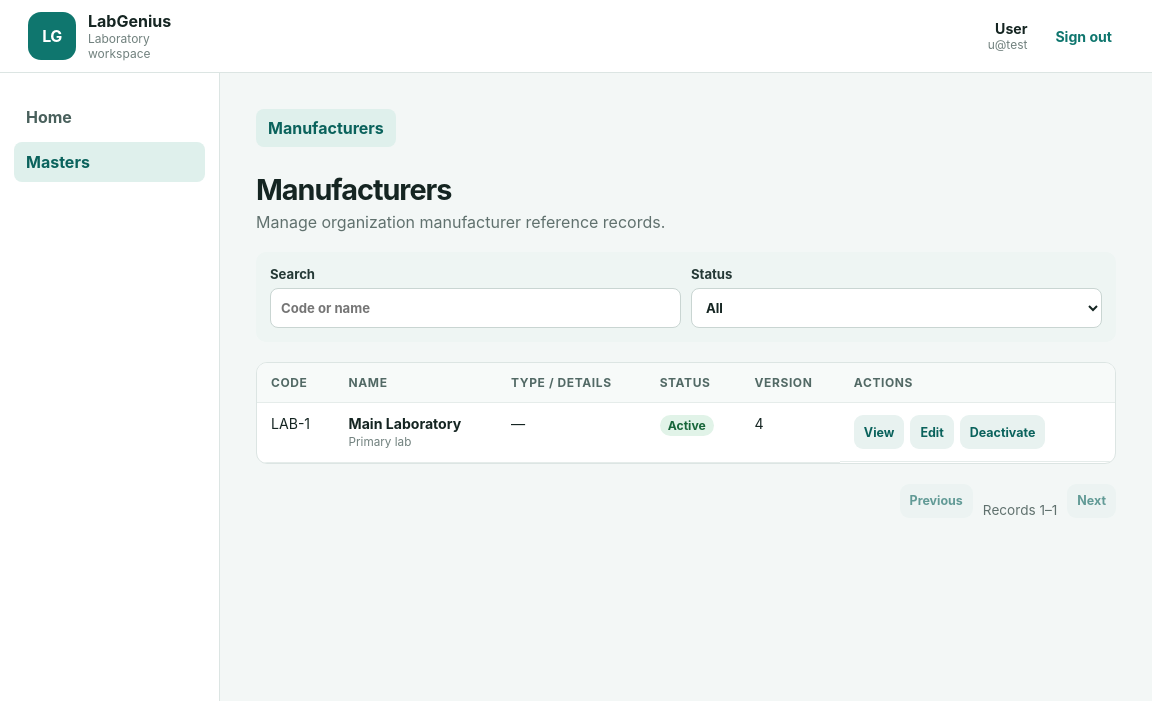
Test: sends expected version, preserves stale conflict, and offers refresh
Click the button "Edit" at x=932, y=432, box [910,415,954,449]
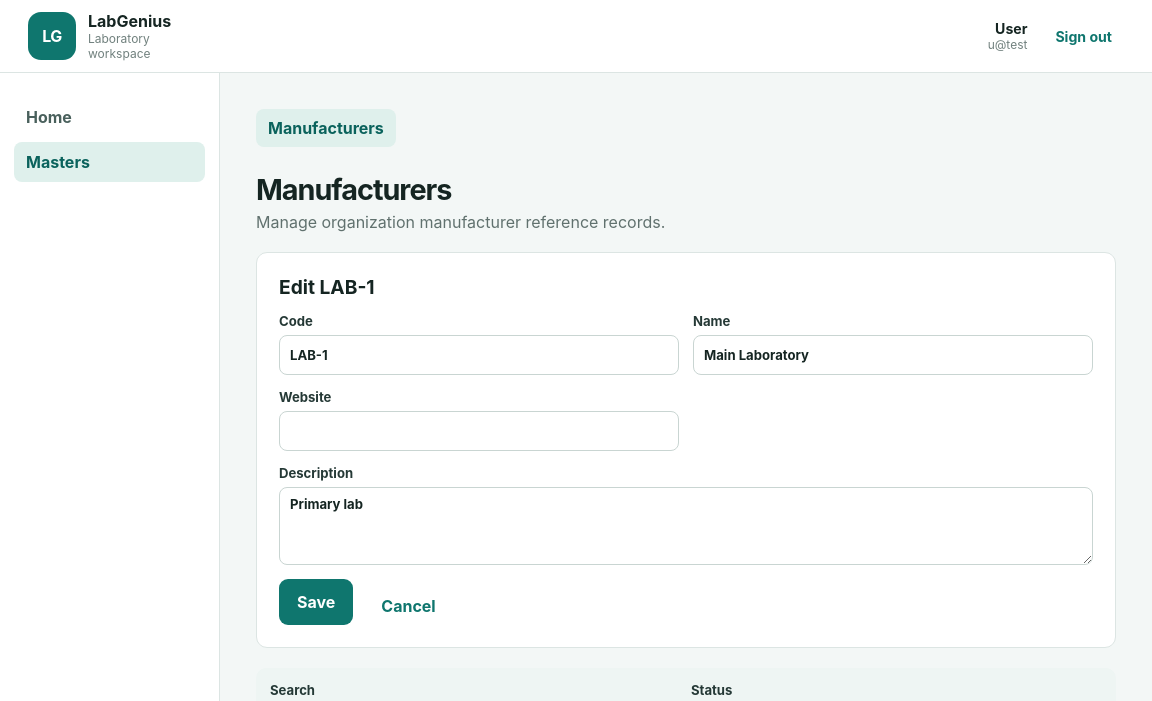
Replace the text in the field labelled "Name" with "Changed" at x=893, y=355, box [693,335,1093,375]
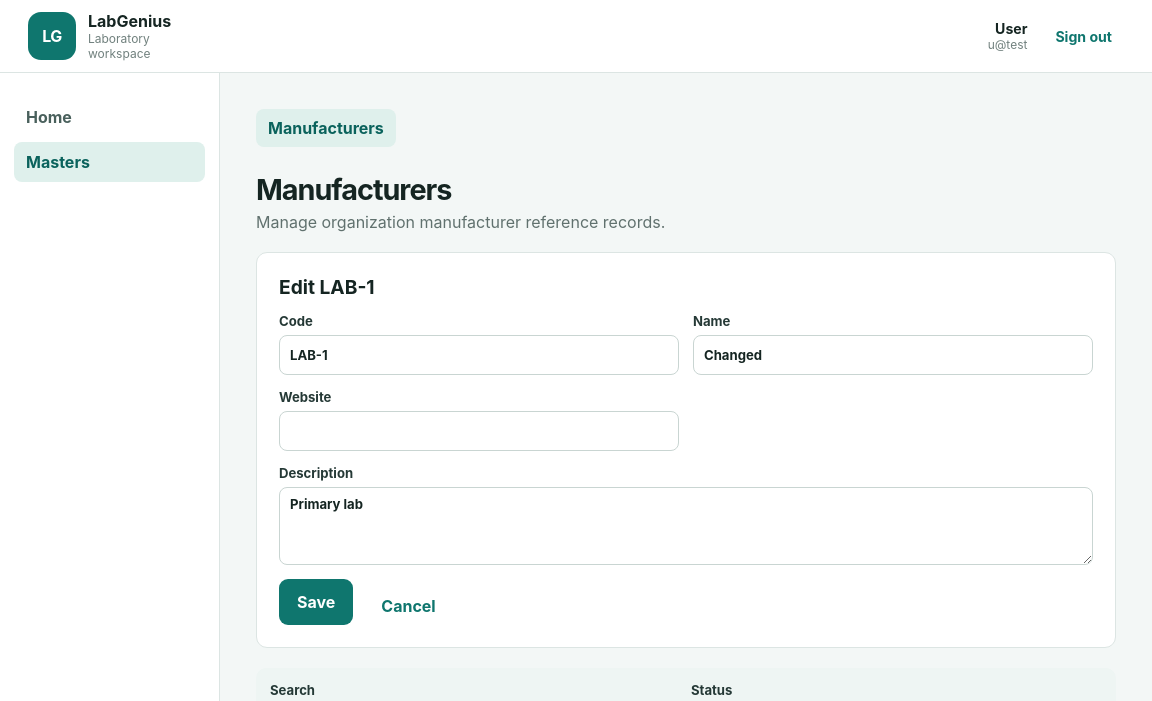
Click the button "Save" at x=316, y=602, box [279,579,353,625]
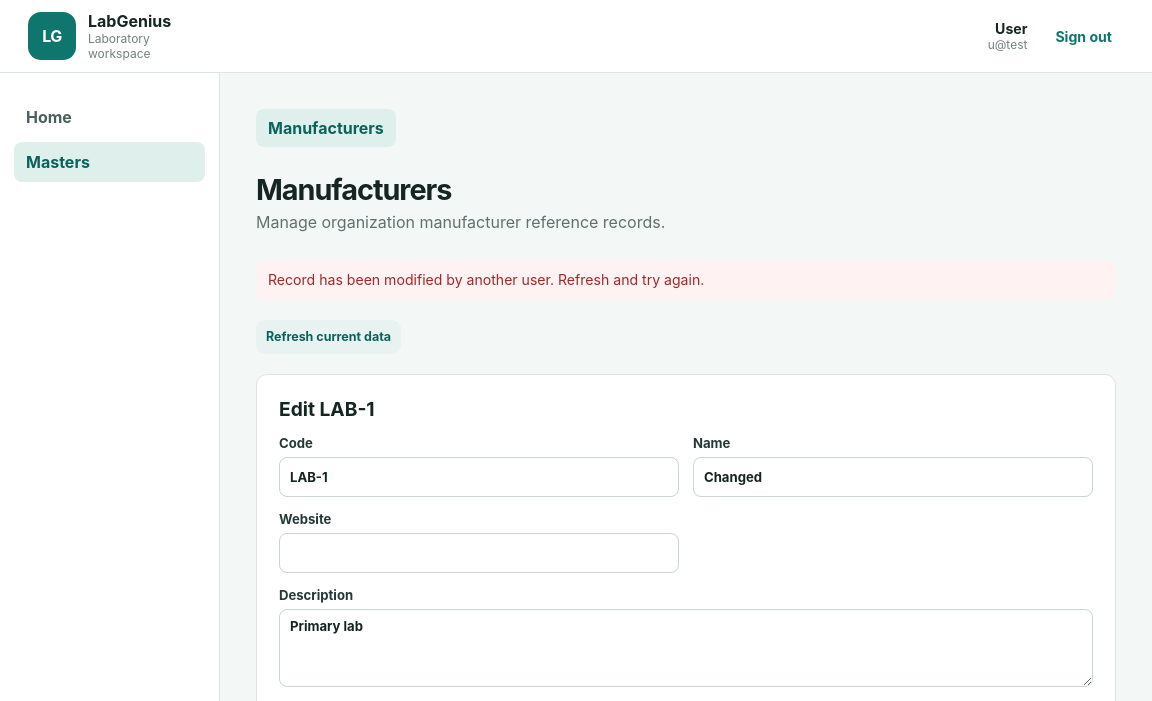
Result: the message shows "Refresh and try again" at [268,271,704,288]
Click the button "Refresh current data" at x=328, y=337, box [256,320,401,354]
(page scrolled)
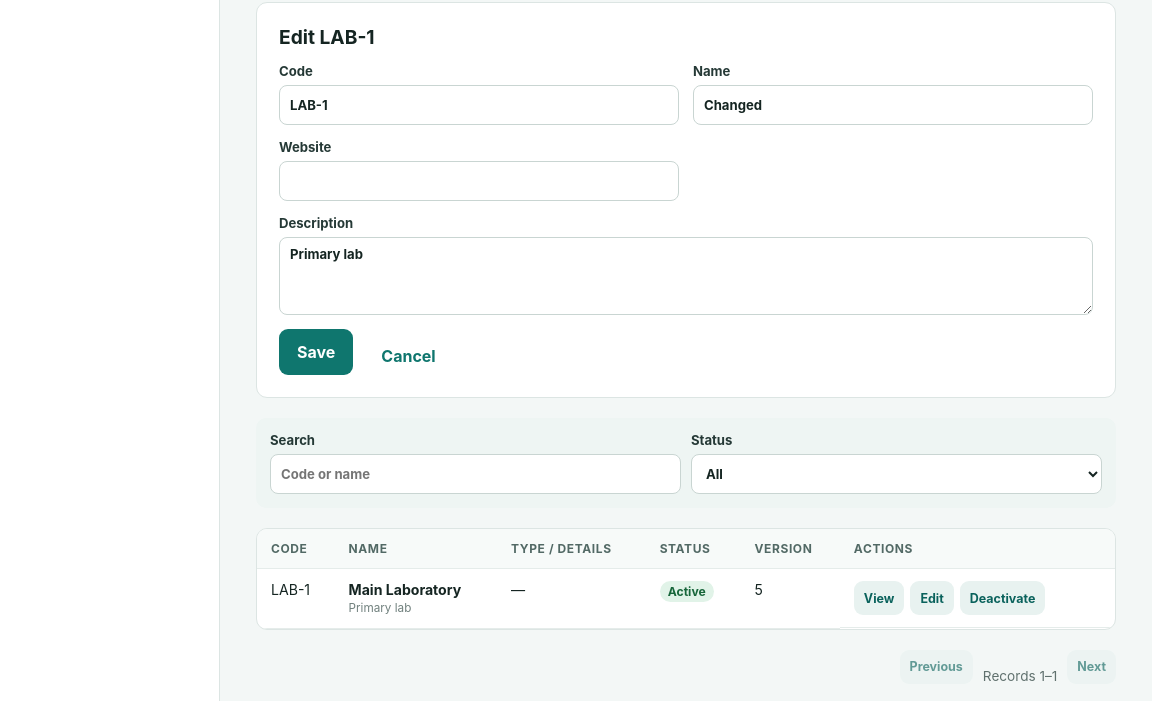
Result: the text "5" is shown at [740,569,840,628]
